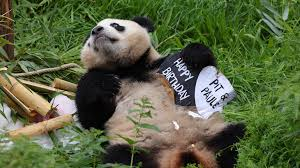panda: (68, 12, 242, 168)
